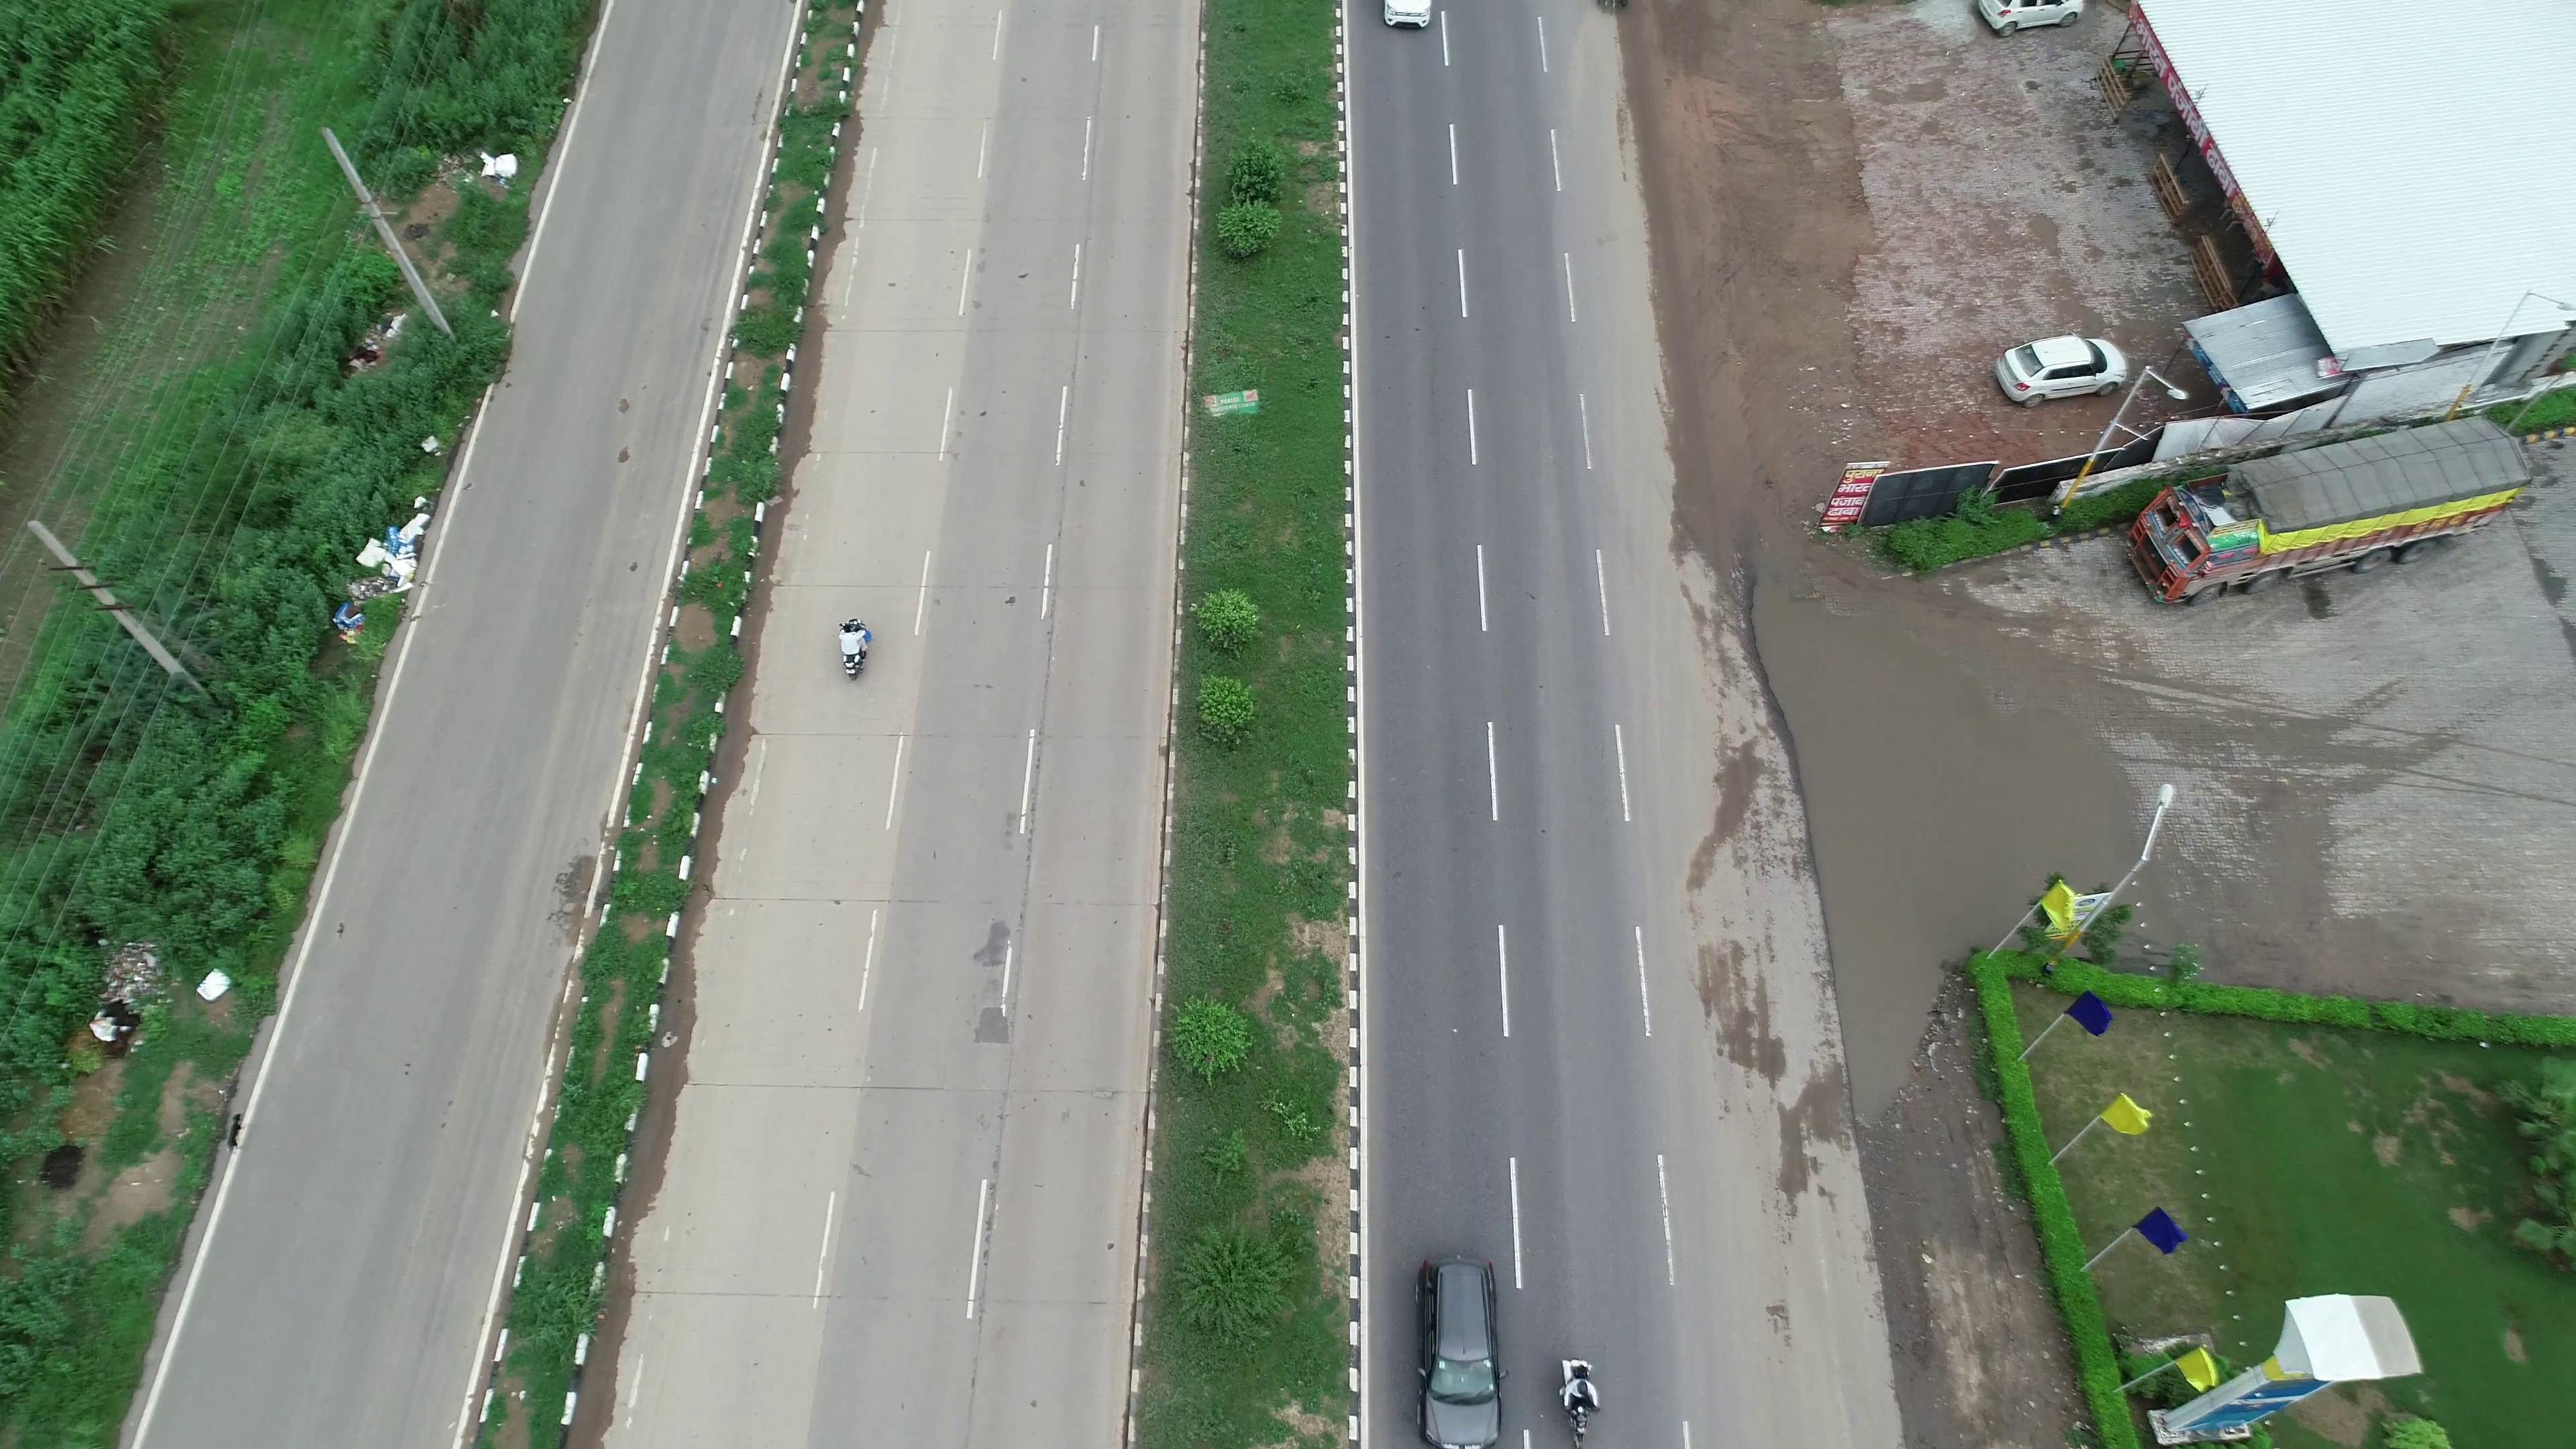Road_side_garbage: (331, 504, 442, 635)
